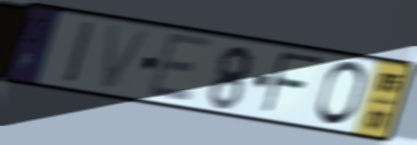8: (206, 42, 255, 111)
E: (144, 29, 215, 105)
F: (258, 48, 326, 118)
I: (63, 18, 98, 87)
O: (313, 59, 368, 129)
V: (97, 21, 156, 93)
